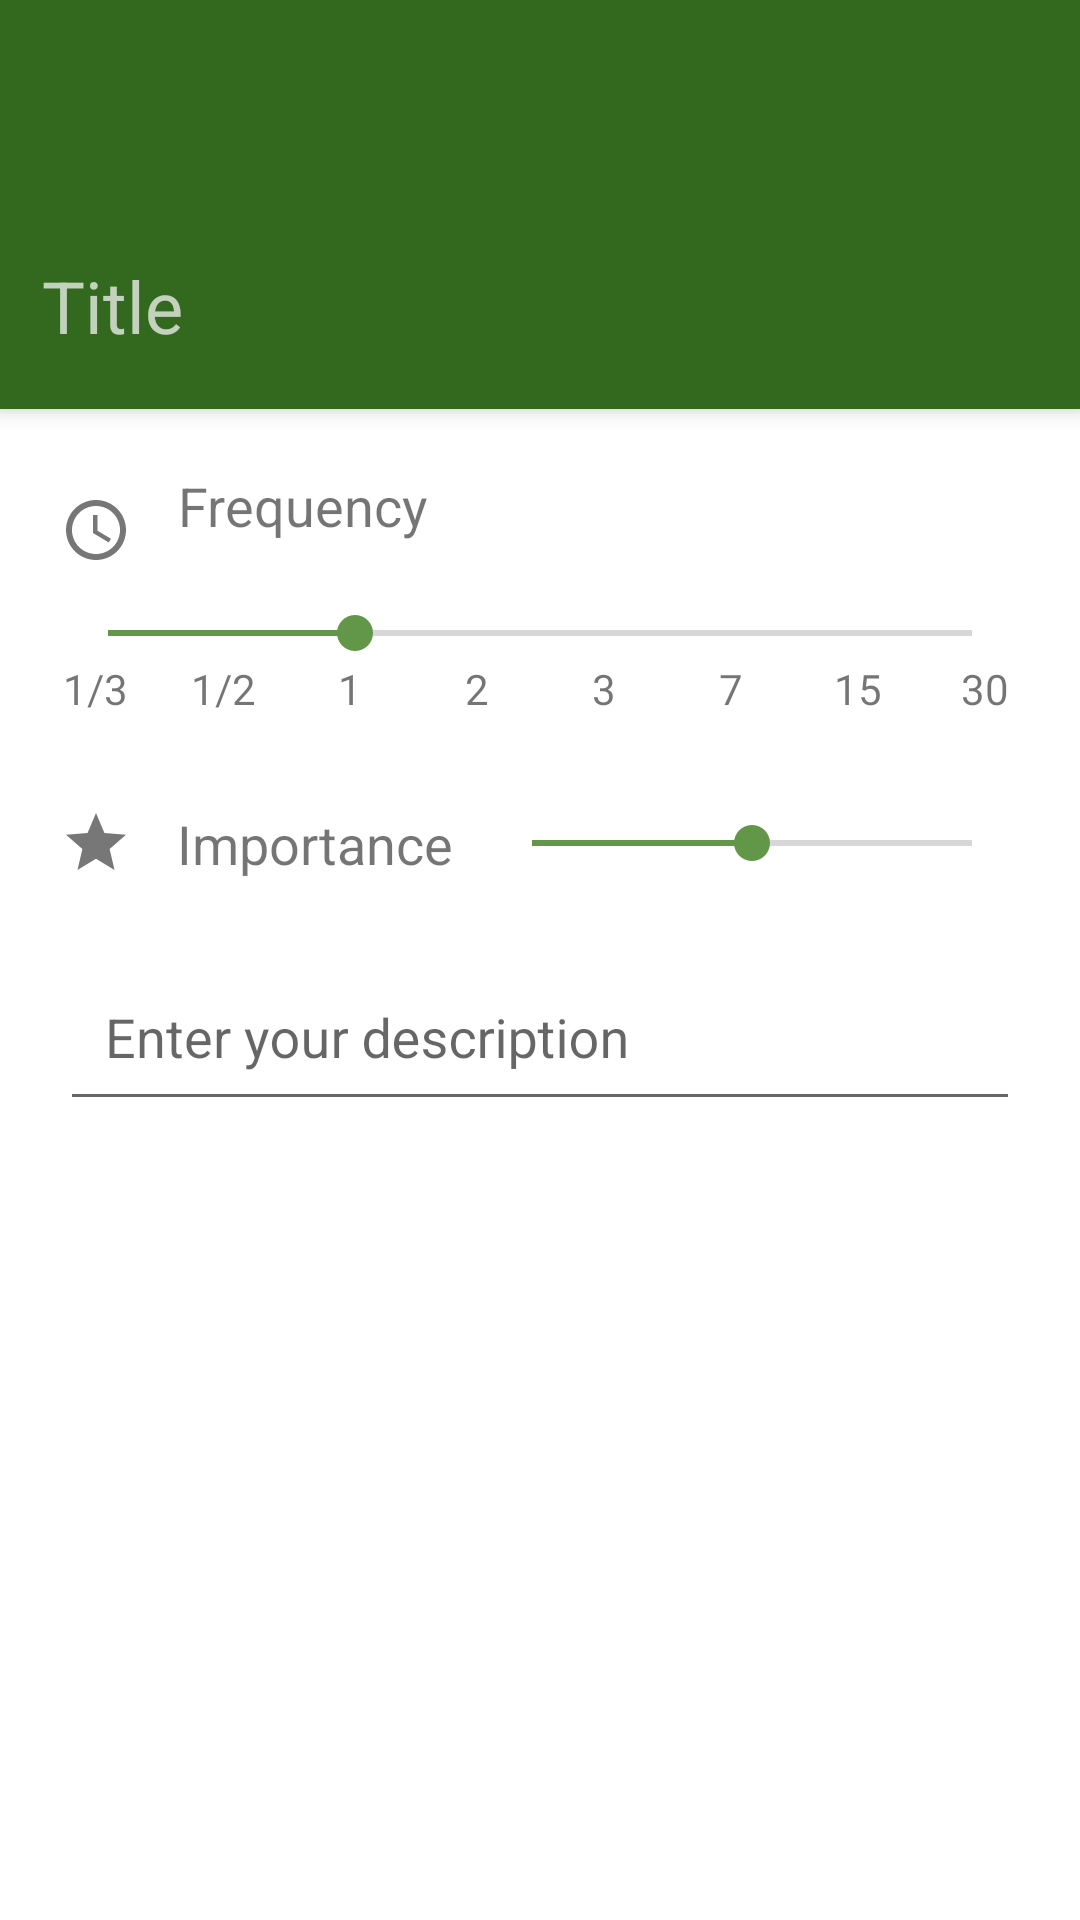

Point at icon controls on the screen. Image size 1080 x 1920, points as (x,y).
Time: (96,530)
